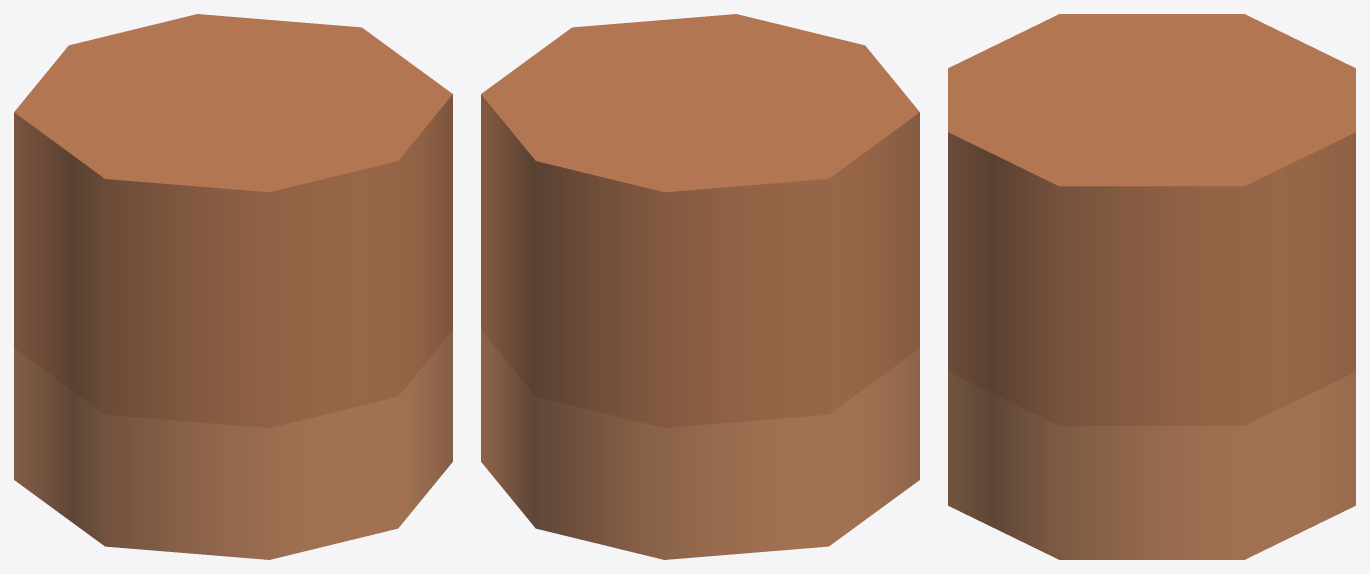
File: 03_one_middle.glb
3 views of the same model, side by side, from view 1: azimuth 30°, elevation 25°; view 2: azimuth 150°, elevation 25°; view 3: azimuth 270°, elevation 25° (orthographic).
Visible parts, largest first — view 1: 03_one_middle; view 2: 03_one_middle; view 3: 03_one_middle.
Boxes of the visible parts, left/top/right/bottom form: 03_one_middle: left=14, top=14, right=452, bottom=559; 03_one_middle: left=481, top=14, right=919, bottom=559; 03_one_middle: left=948, top=14, right=1355, bottom=559.
Bounding box in the file's own units: 0.5 × 0.505 × 0.4998.
